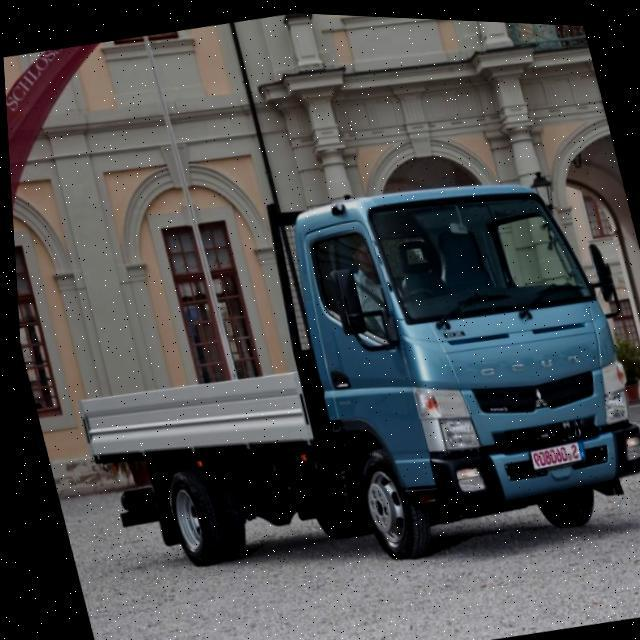truck: (27, 127, 640, 612)
